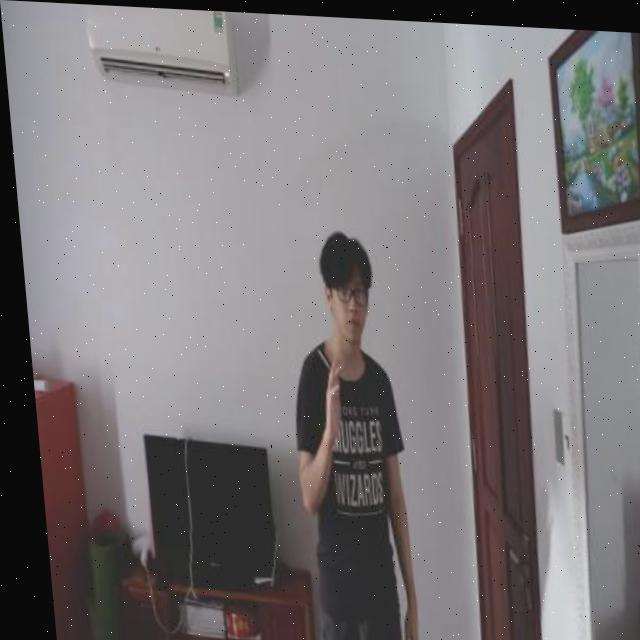cigarette: (311, 345, 325, 369)
